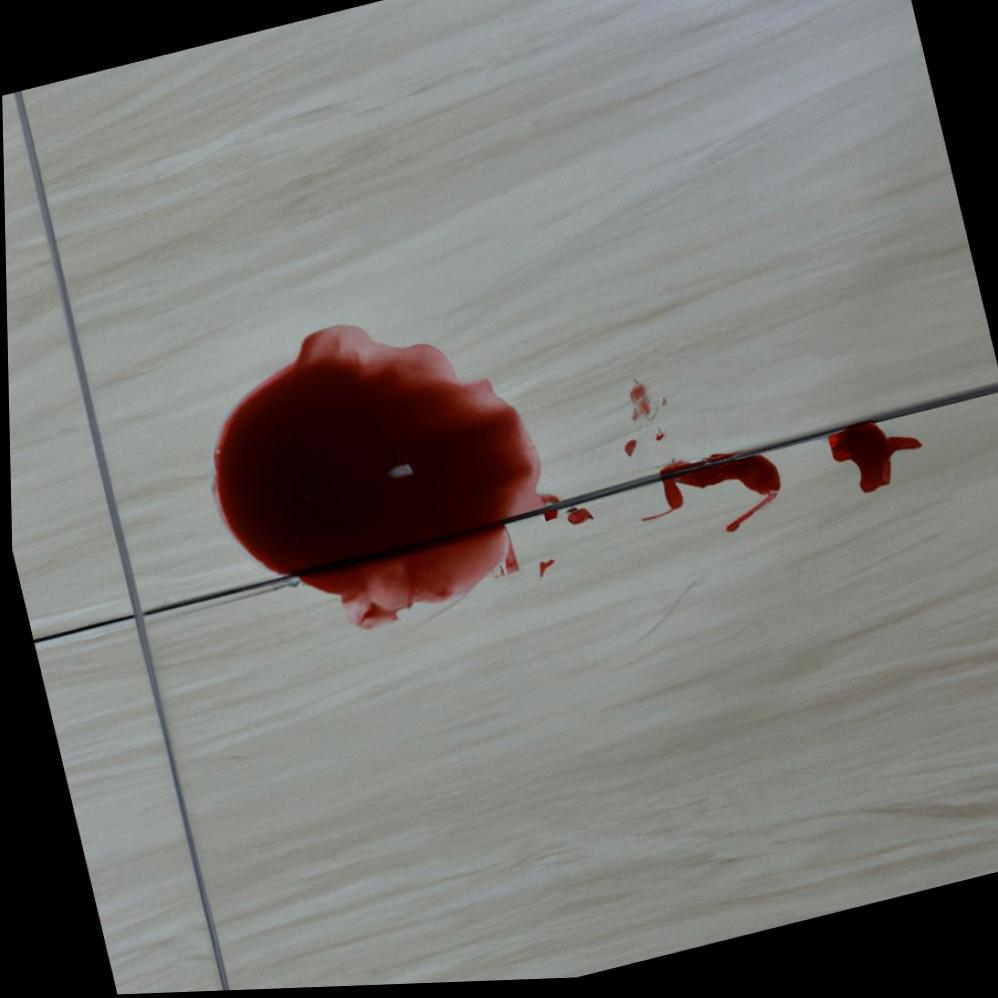Fire: (210, 327, 557, 633), (660, 460, 779, 515), (657, 457, 735, 480)
